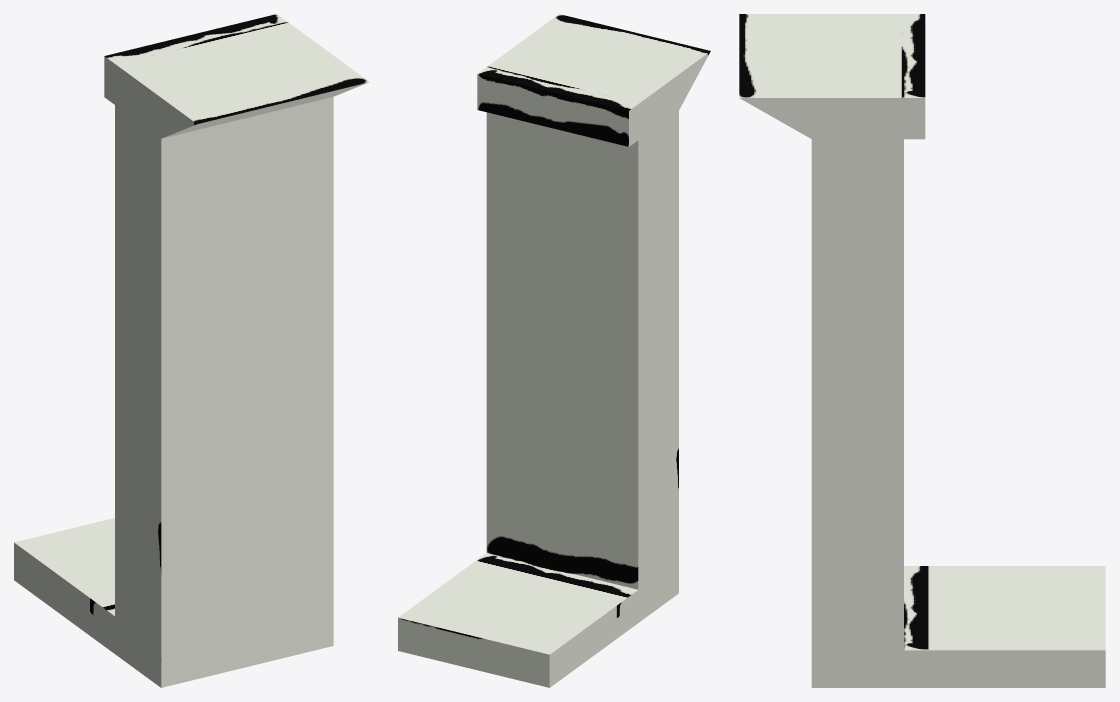
The model's file is bigmode_wall.glb.
3 renders of one model, left to right at view 1: azimuth 30°, elevation 25°; view 2: azimuth 150°, elevation 25°; view 3: azimuth 270°, elevation 25°, orthographic. The views are drawn at different scales.
Parts seen in each view (by area): view 1: wall; view 2: wall; view 3: wall.
Part boxes in pixels (x1,y1,x2,y2): wall: (14, 14, 369, 687); wall: (398, 14, 710, 687); wall: (739, 14, 1105, 687).
Size of the model in its own units: 0.9863 by 3.22 by 1.81.
Materials: 1 (1 with a texture image).
